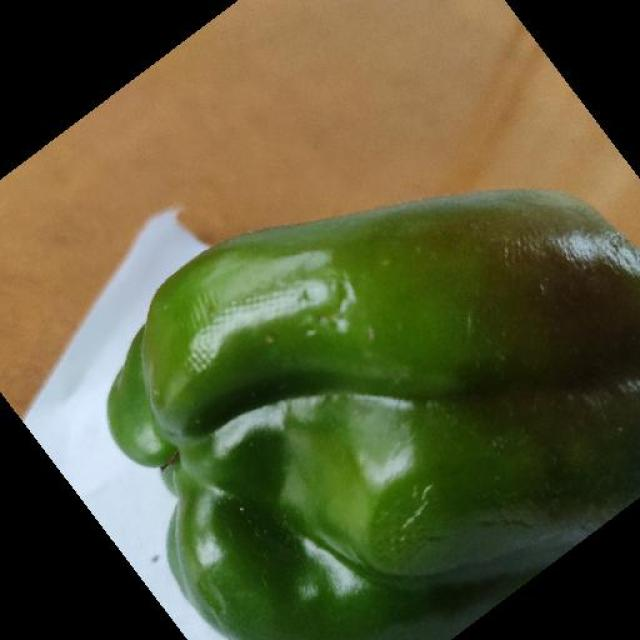Stale_Capsicum: (437, 209, 640, 485)
